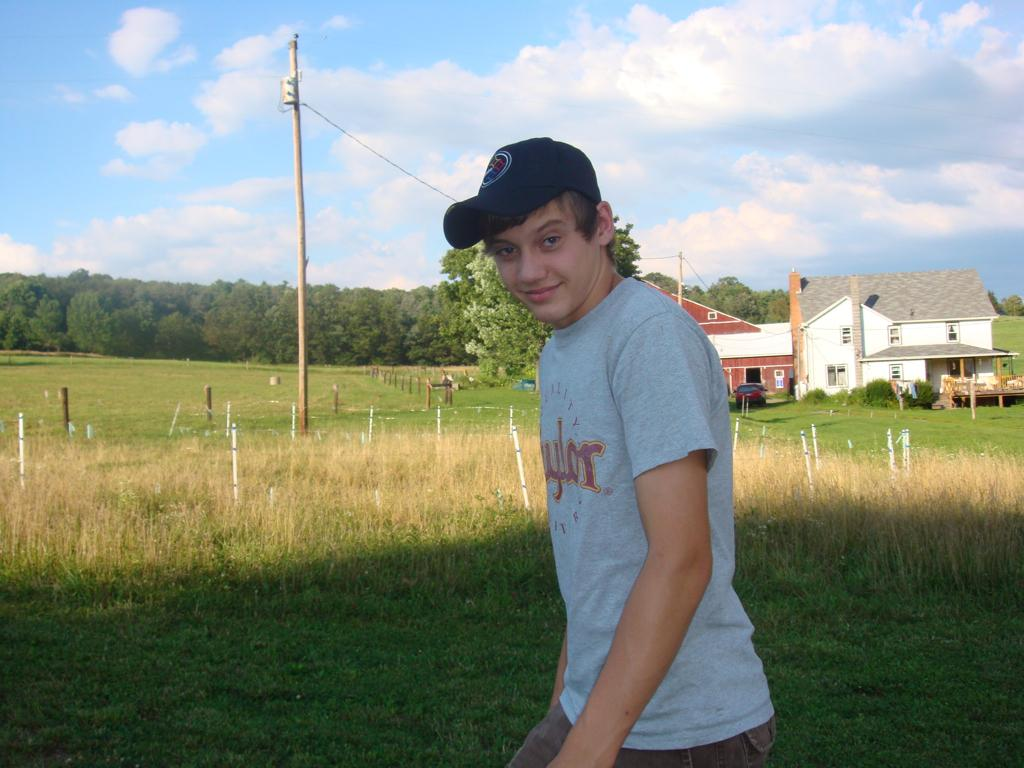Hat: (440, 134, 604, 252)
